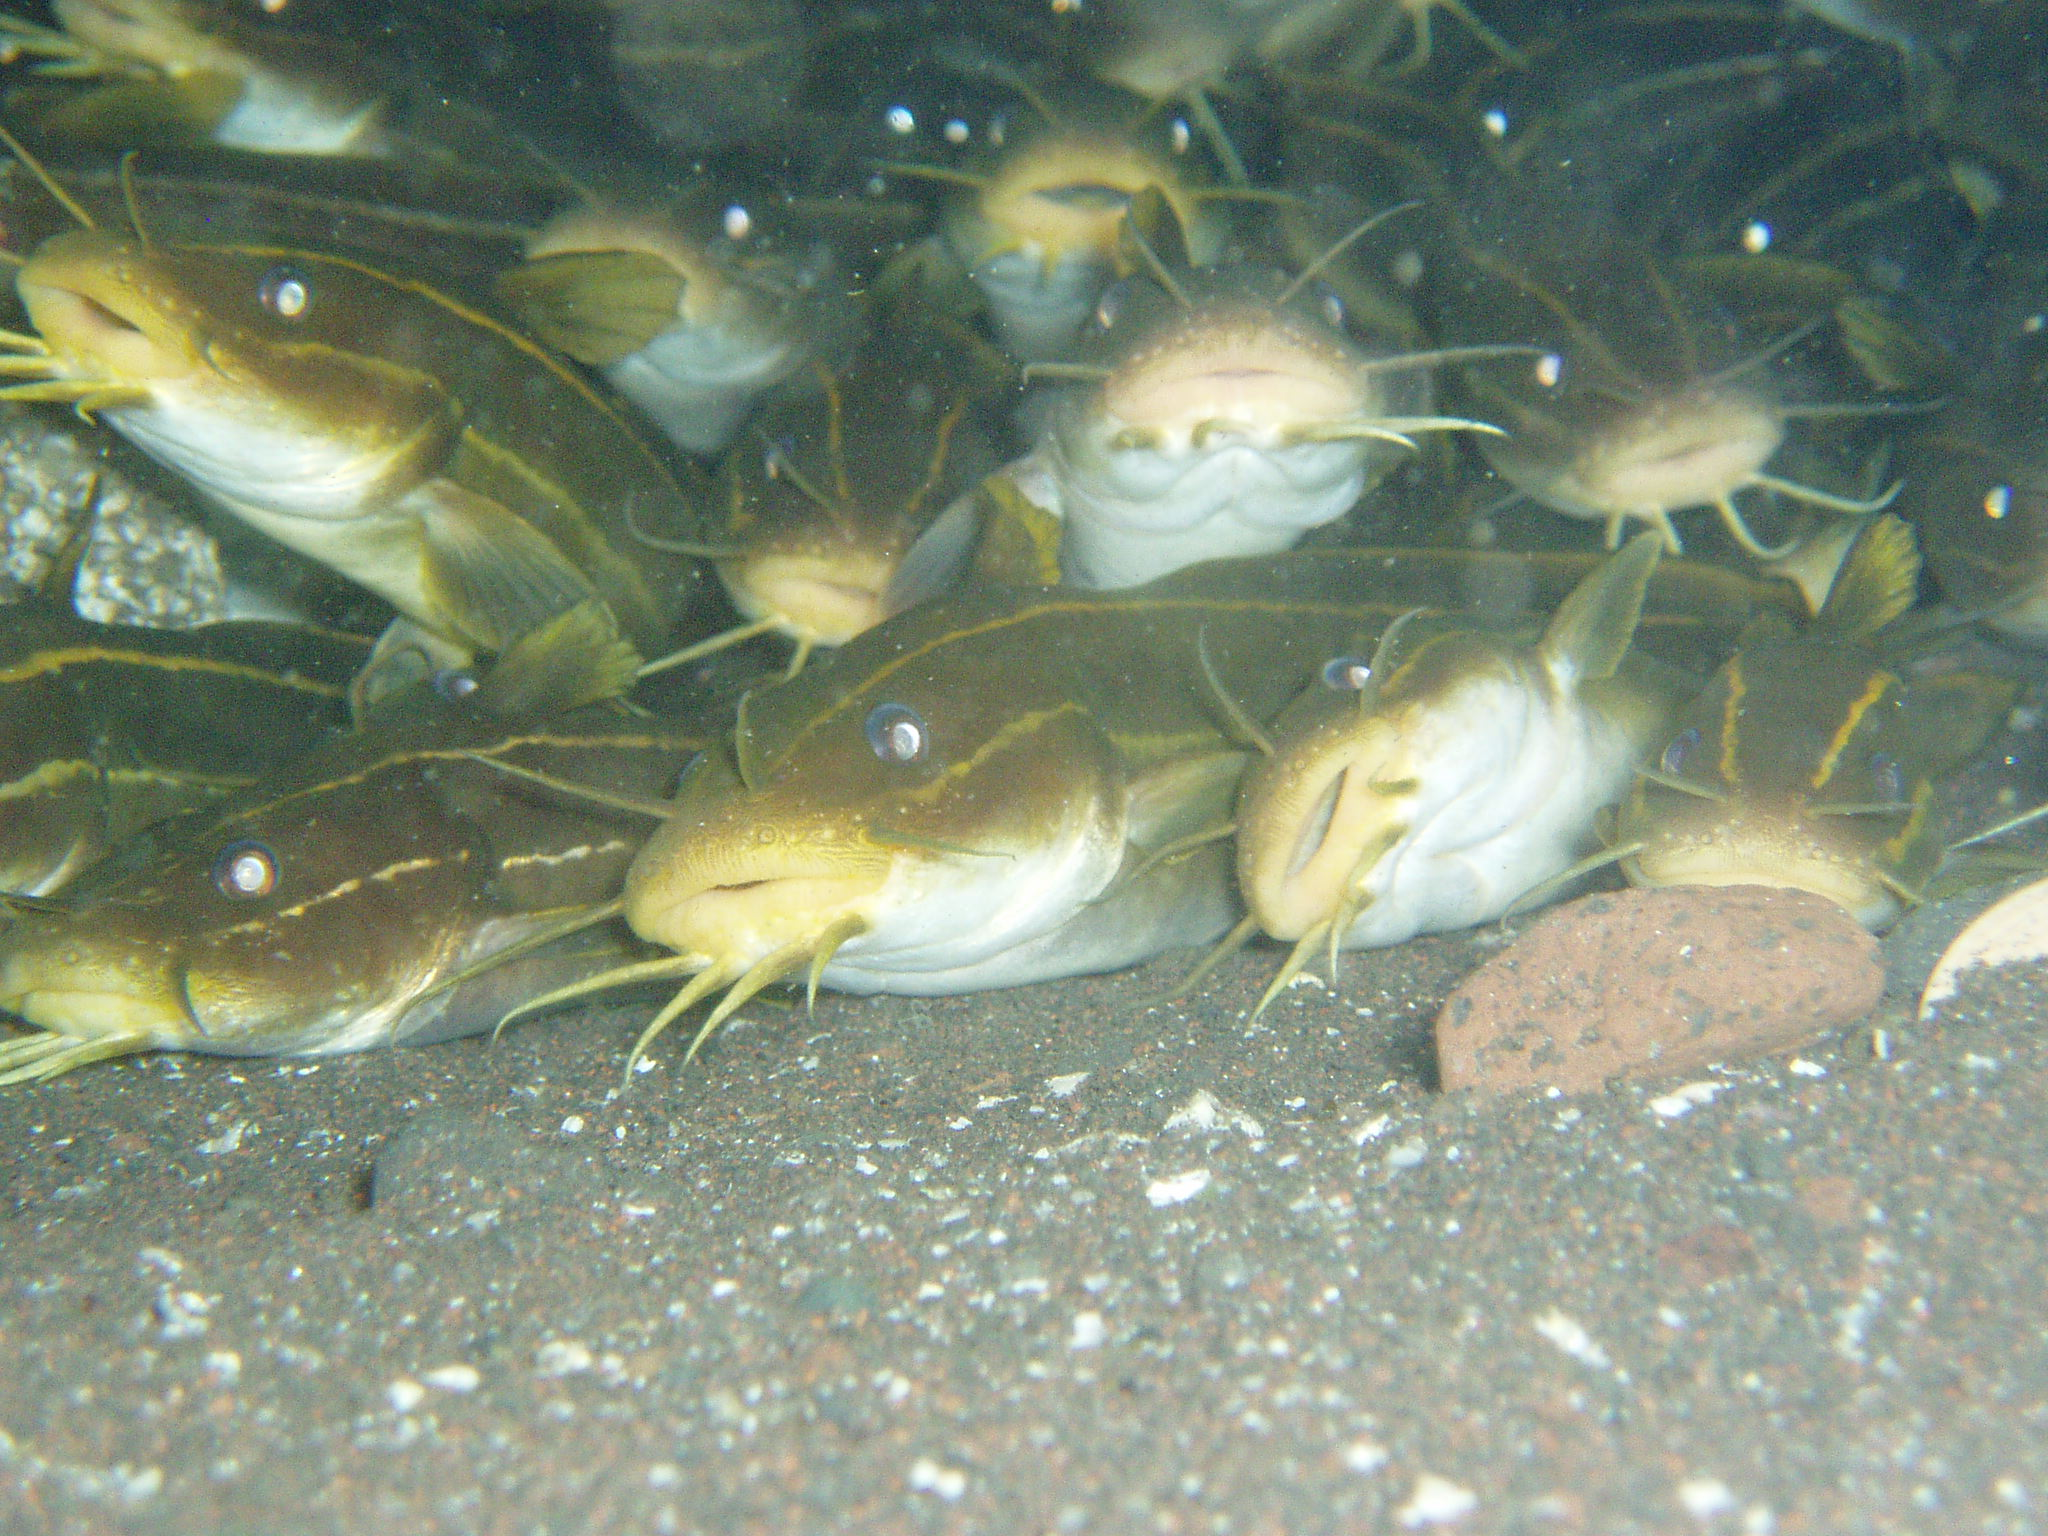gonzui: (35, 194, 719, 695)
